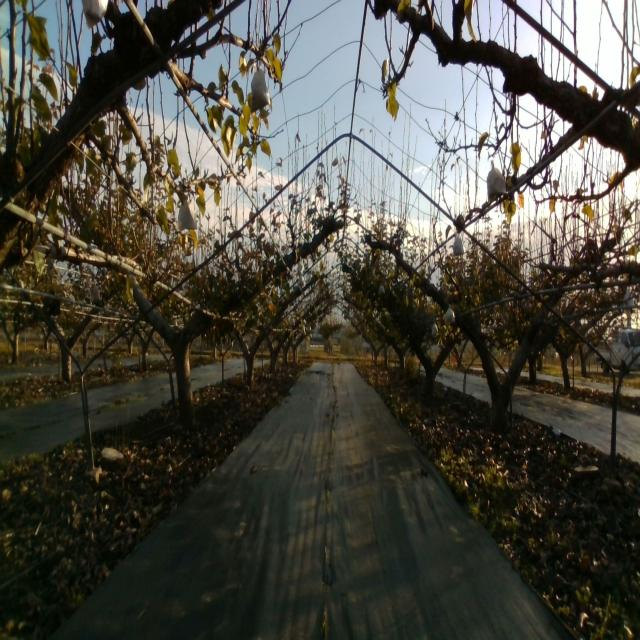pearbags: (249, 67, 270, 110), (486, 159, 506, 201), (175, 200, 197, 232), (451, 233, 465, 255)
